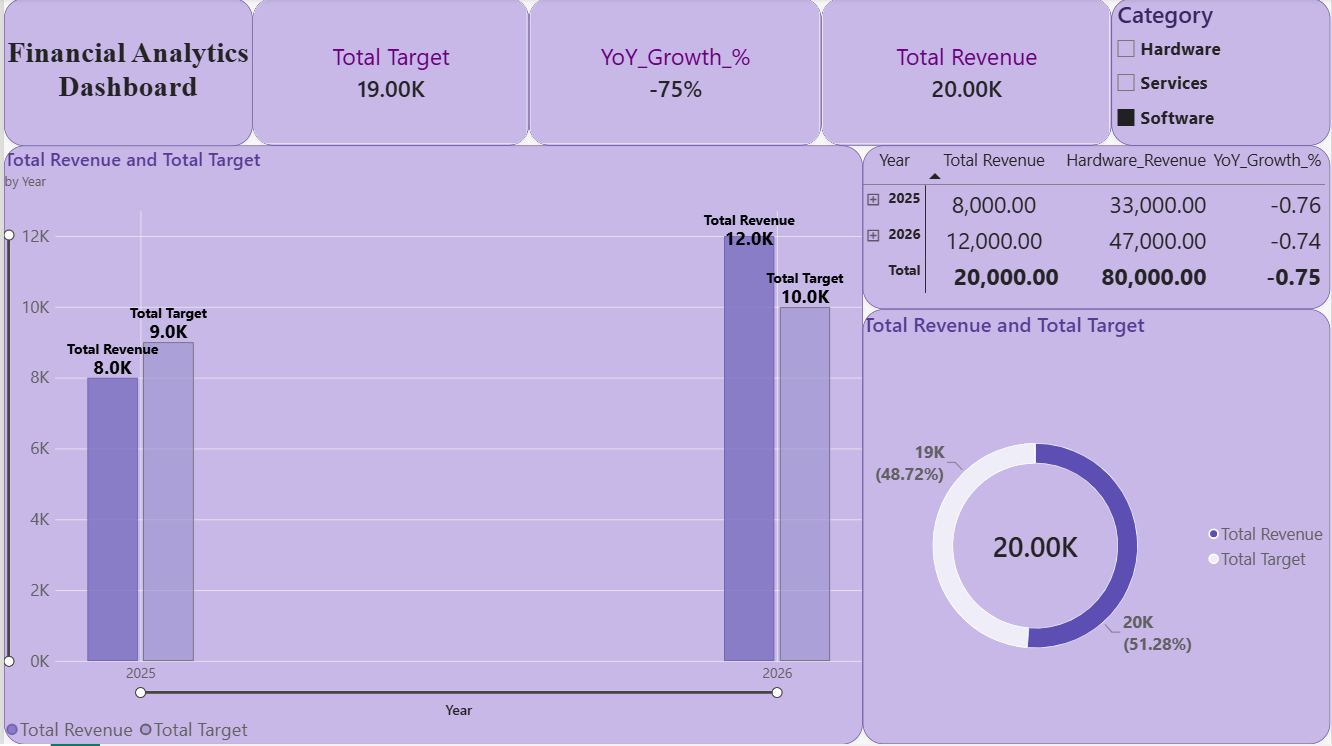

This screenshot's page, from the dashboard's own definition file:
{"tool":"powerbi","page":{"name":"Page 1","canvas":[1920,1080],"ordinal":0},"visuals":[{"type":"pivotTable","fields":{"Rows":["Dim_Date.Date.Variation.Date Hierarchy.Year","Dim_Date.Date.Variation.Date Hierarchy.Quarter","Dim_Date.Date.Variation.Date Hierarchy.Month","Dim_Date.Date.Variation.Date Hierarchy.Day"],"Values":["Dim_Date.Total Revenue","Dim_Date.PY_Revenue","Dim_Date.YoY_Growth_%"]},"box":[0,654.5,722.5,426],"z":0},{"type":"cardVisual","fields":{"Data":["Dim_Date.Total Revenue"]},"box":[1331.7,0,588.7,214.1],"z":1000},{"type":"cardVisual","fields":{"Data":["Dim_Date.Total Target"]},"box":[0,0,588.7,213],"z":2000},{"type":"cardVisual","fields":{"Data":["Dim_Date.YoY_Growth_%"]},"box":[664.8,0,588.7,214.1],"z":3000},{"type":"slicer","fields":{"Values":["financial_analytics dim_product.Category"]},"box":[1197.9,654.5,722,426],"z":4000}]}

Visuals, with their boxes in screenshot pixels (x1, y1, x2, y2), scaled from the page's 1920x1080 canvas onto the 1332x746 screenshot:
pivotTable - Dim_Date.Date.Variation.Date Hierarchy.Year x Dim_Date.Date.Variation.Date Hierarchy.Quarter: box(0, 452, 501, 745)
cardVisual - Dim_Date.Total Revenue: box(924, 0, 1331, 148)
cardVisual - Dim_Date.Total Target: box(0, 0, 408, 147)
cardVisual - Dim_Date.YoY_Growth_%: box(461, 0, 870, 148)
slicer - financial_analytics dim_product.Category: box(831, 452, 1331, 745)
